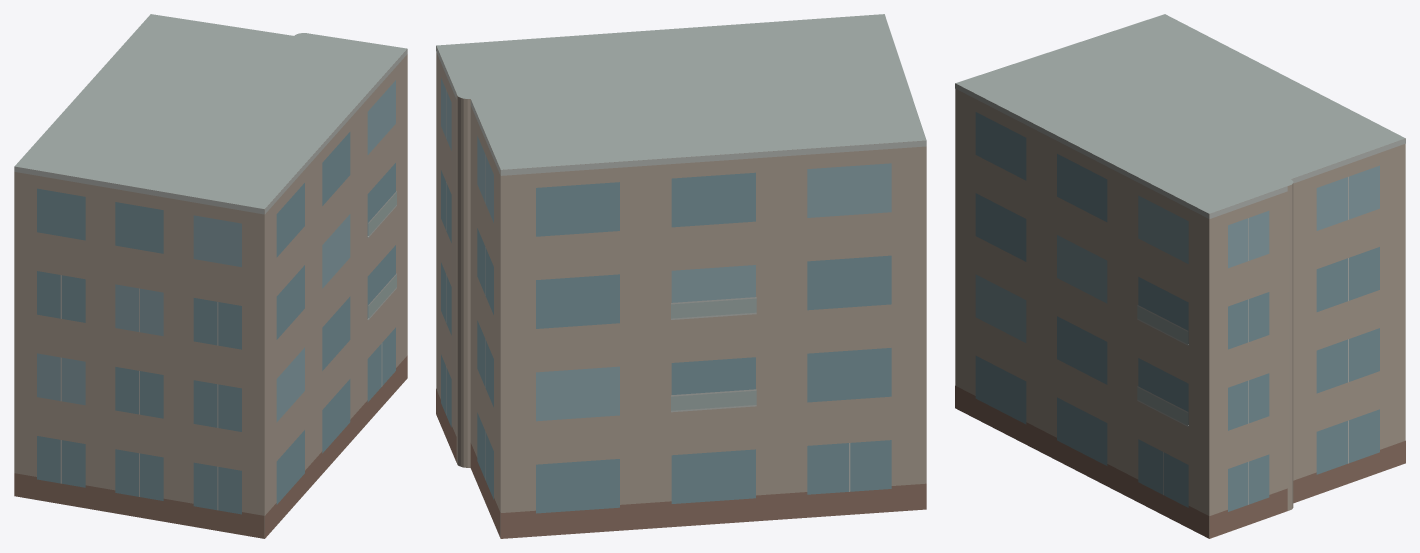
The model's file is survey-upis-32814707.glb.
3 renders of one model, left to right at view 1: azimuth 30°, elevation 25°; view 2: azimuth 150°, elevation 25°; view 3: azimuth 270°, elevation 25°, orthographic. The views are drawn at different scales.
Visible parts, largest first — view 1: survey-upis-32814707.tmp; view 2: survey-upis-32814707.tmp; view 3: survey-upis-32814707.tmp.
Part boxes in pixels (left/top/right/bottom): survey-upis-32814707.tmp: left=14, top=14, right=407, bottom=538; survey-upis-32814707.tmp: left=436, top=14, right=926, bottom=538; survey-upis-32814707.tmp: left=955, top=14, right=1405, bottom=538.
Bounding box in the file's own units: 19.87 × 15.05 × 18.92.
